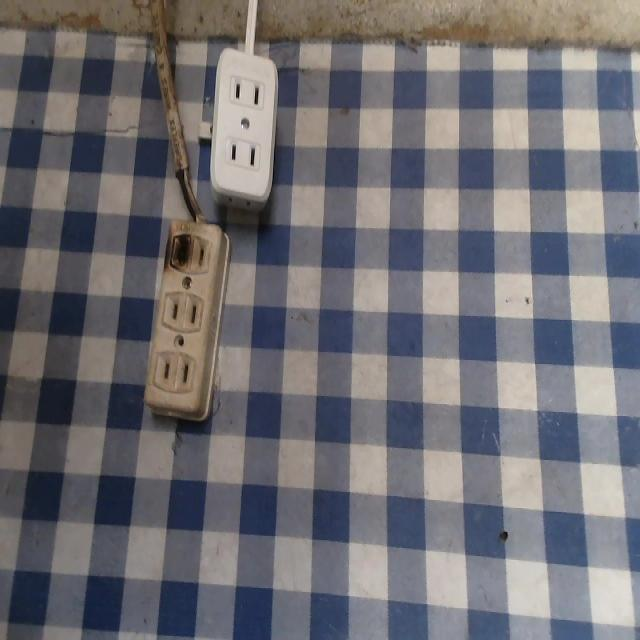-: (164, 227, 195, 272)
